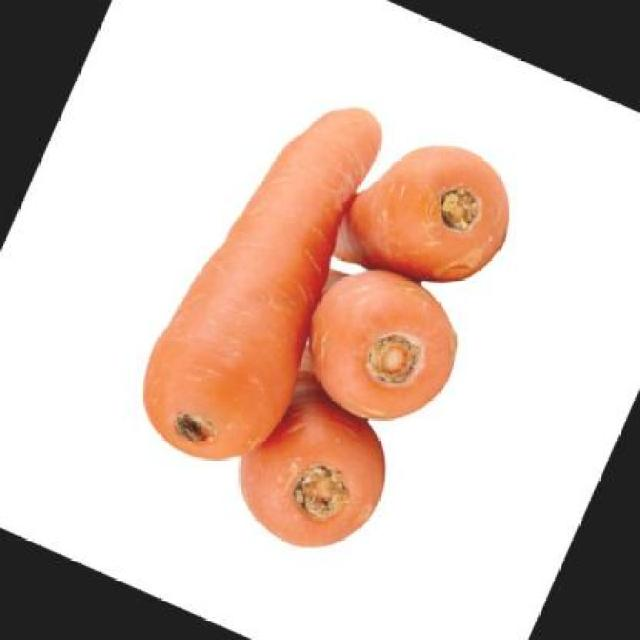carrot: (119, 68, 412, 484), (218, 338, 424, 570), (326, 113, 534, 319), (275, 245, 480, 443)
